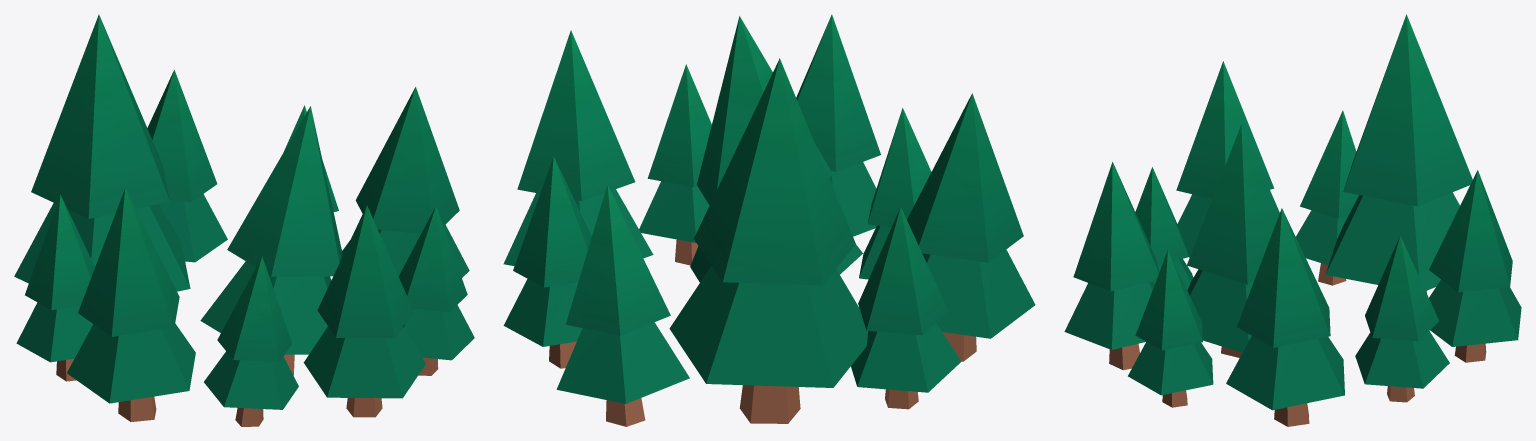
The model's file is trees-a-medium.glb.
3 views of the same model, side by side, from view 1: azimuth 30°, elevation 25°; view 2: azimuth 150°, elevation 25°; view 3: azimuth 270°, elevation 25° (orthographic). The views are drawn at different scales.
Visible parts, largest first — view 1: trees_A_medium; view 2: trees_A_medium; view 3: trees_A_medium.
Boxes of the visible parts, x1=… form: trees_A_medium: x1=14, y1=14, x2=474, y2=426; trees_A_medium: x1=503, y1=14, x2=1035, y2=426; trees_A_medium: x1=1064, y1=14, x2=1521, y2=426.
Bounding box in the file's own units: 1.75 × 1.3 × 1.81.
1 material, 1 textured.
